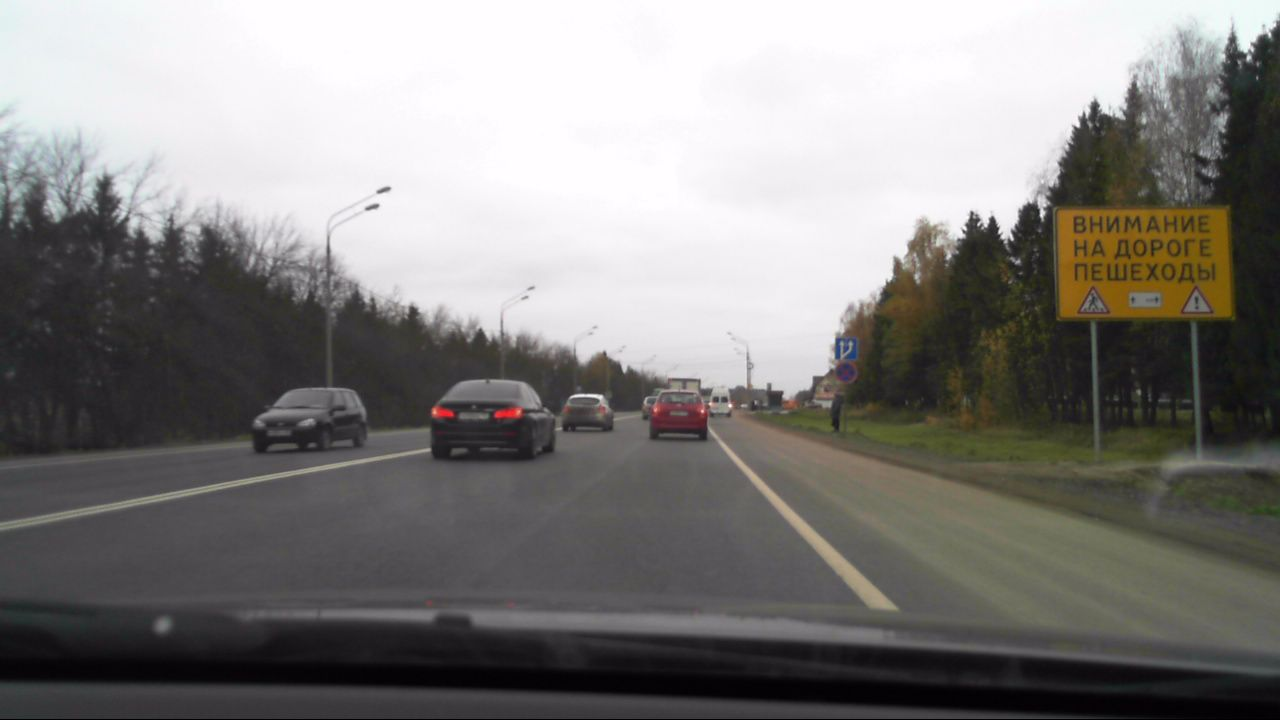No Parking: (835, 362, 858, 384)
